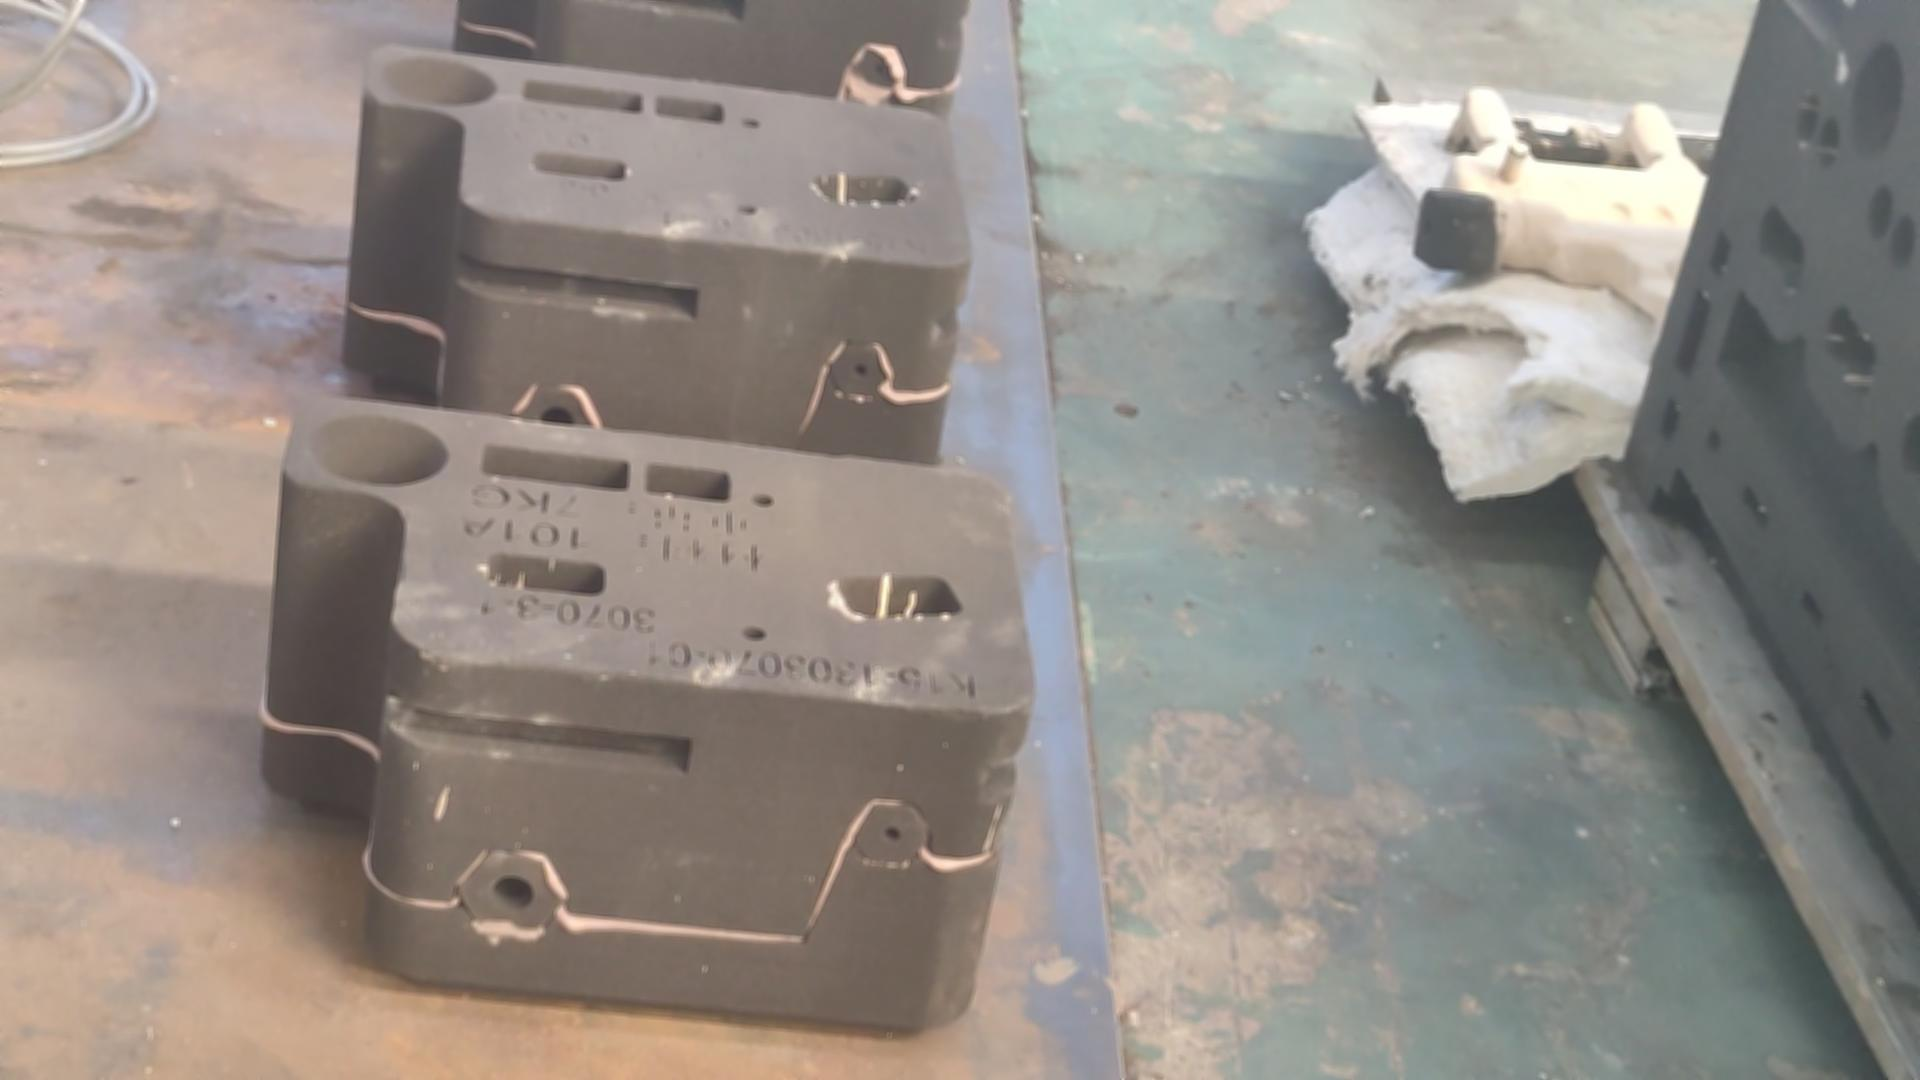pouring hole: (305, 415, 450, 487), (1847, 40, 1904, 156), (378, 55, 498, 105)
